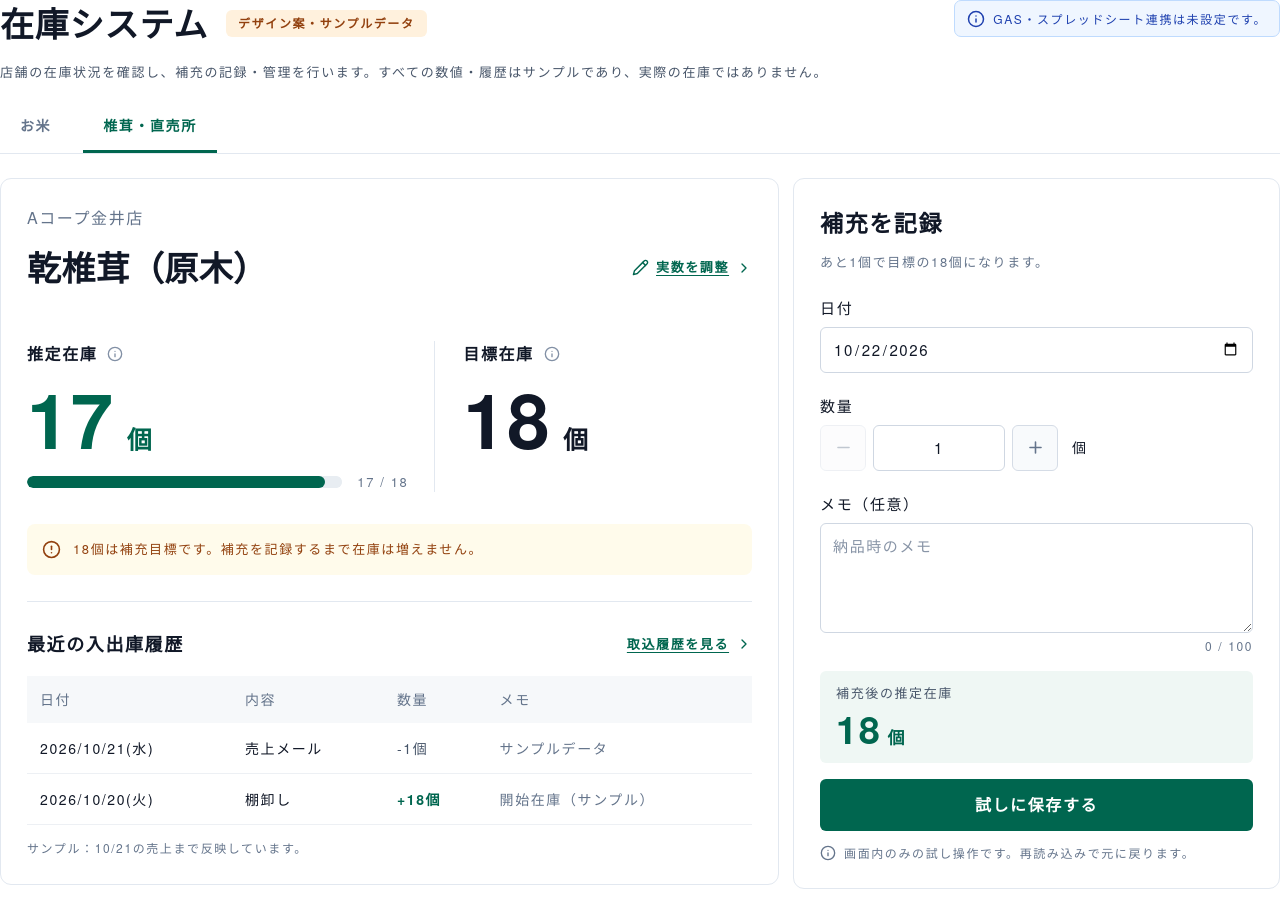
shows a clearly marked, disconnected preview without network or storage writes
Expected: the text "デザイン案・サンプルデータ" is shown, [226,10,427,37]
Expected: the text "GAS・スプレッドシート連携は未設定です。" is shown, [993,9,1267,28]
Click the button "試しに保存する".
click(1037, 805)  # box [820,779,1253,831]
(page scrolled)
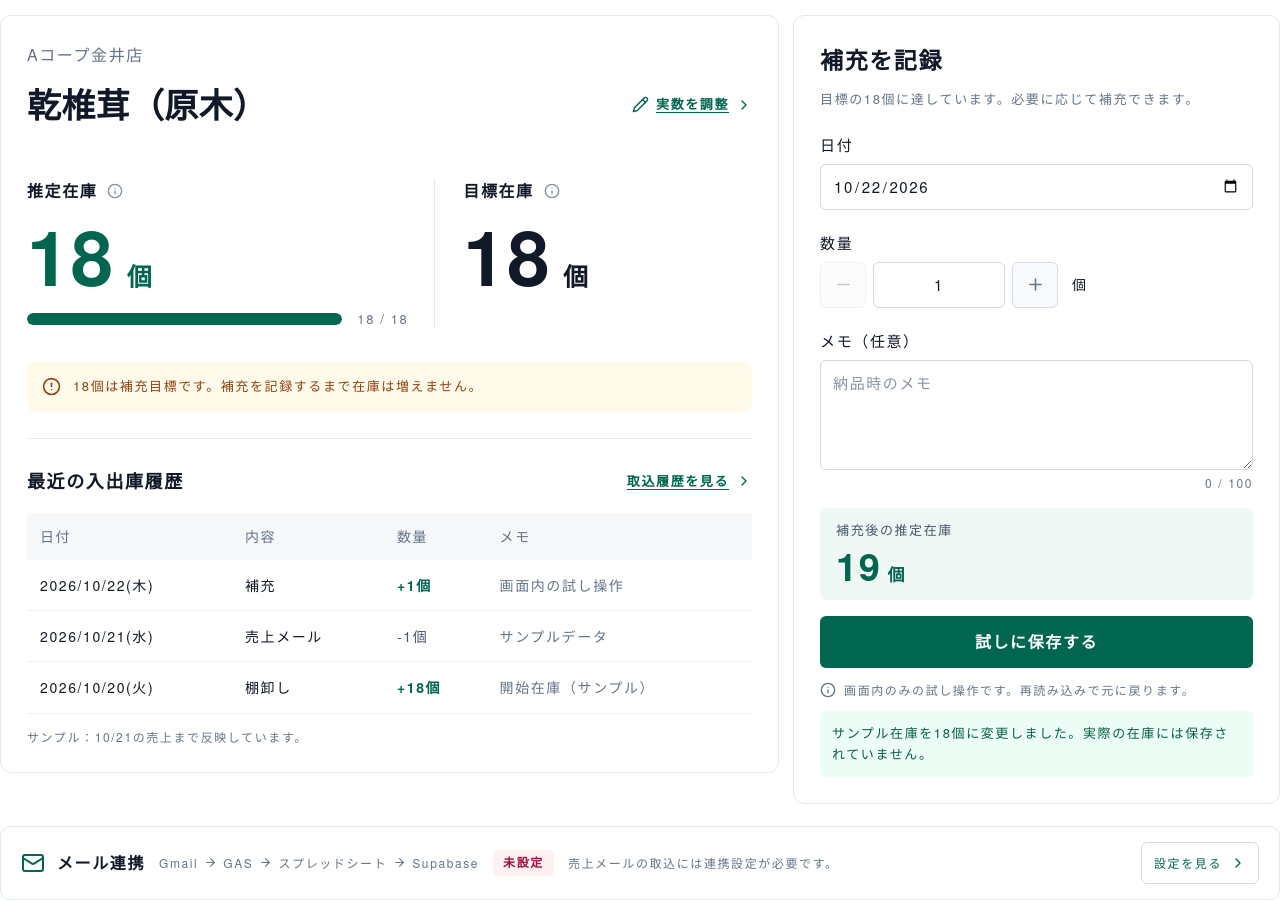
Expected: the message shows "サンプル在庫を18個", [832,723,1229,763]
